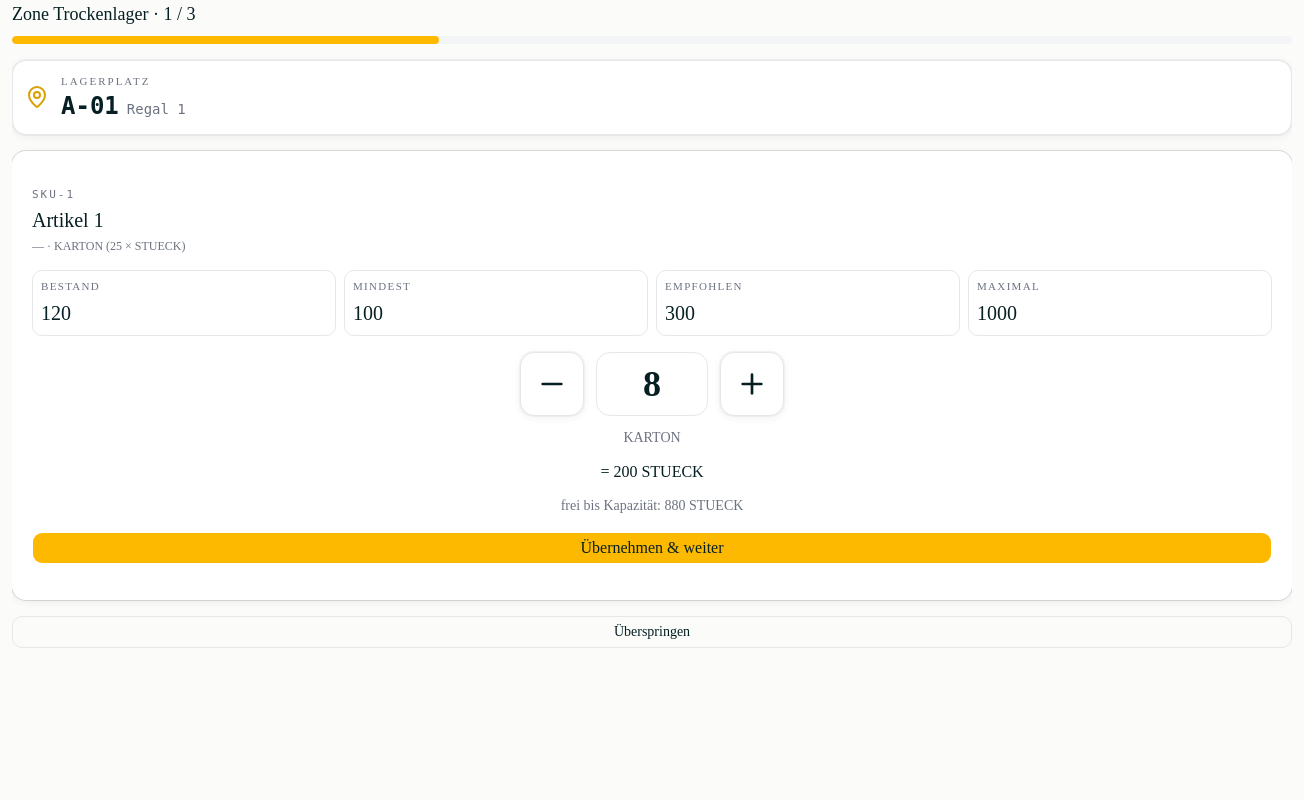
ZoneWalk › PUT-Fehler: bleibt auf 1 mit Meldung
Expected: the heading "Artikel 1" is shown, [32, 209, 104, 231]
Step 1. Click the button "Übernehmen & weiter" → (652, 548), box [32, 532, 1272, 564]
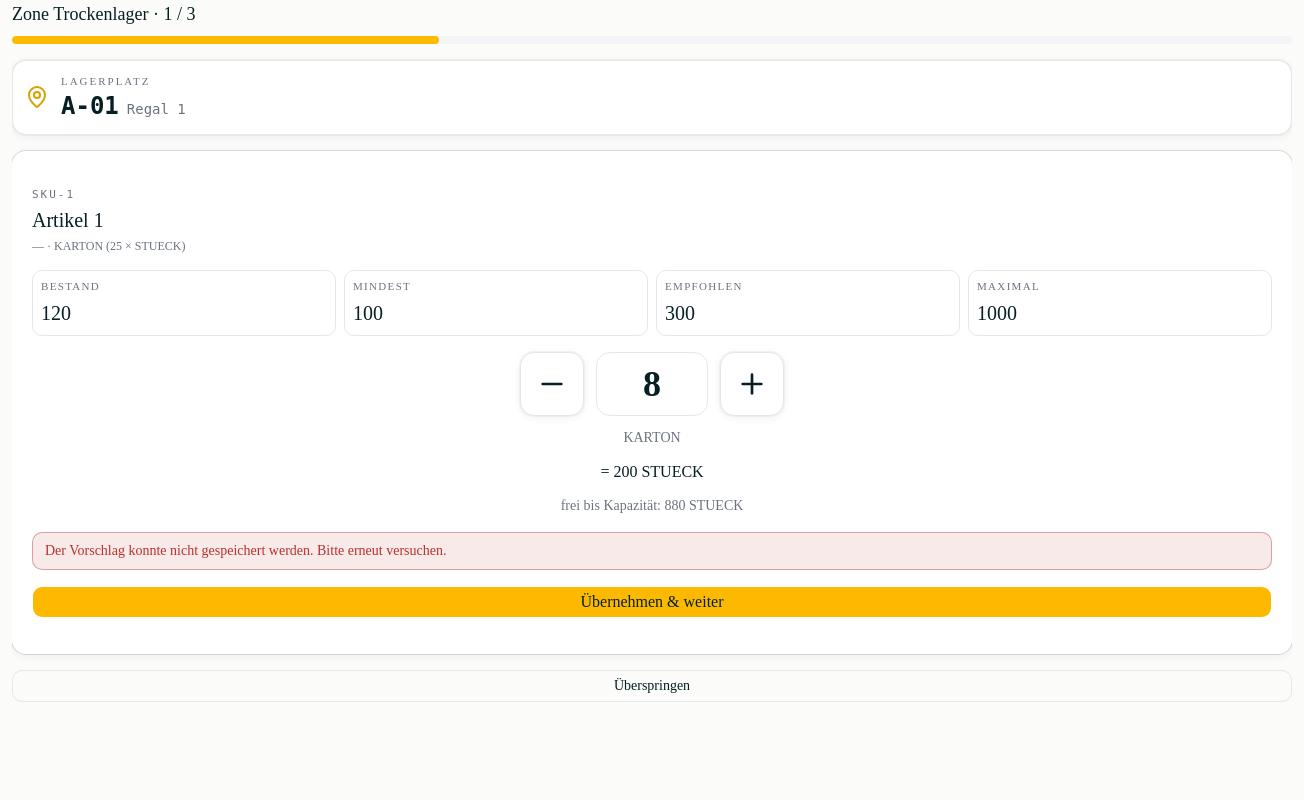
Expected: the heading "Artikel 1" is shown, [32, 209, 104, 231]
Expected: the text "Der Vorschlag konnte nicht gespeichert werden. Bitte erneut versuchen." is shown, [32, 532, 1272, 570]
